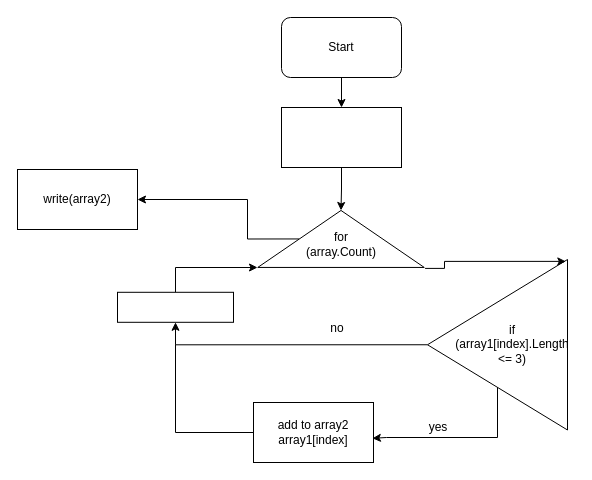
This 592x480 diagram has some shape labels left out. Each missing label, with the centre of its shape:
"array1 = [str, str, str] array2 = [] index = 0" belongs at point 341,137.
"index + 1" belongs at point 175,306.
